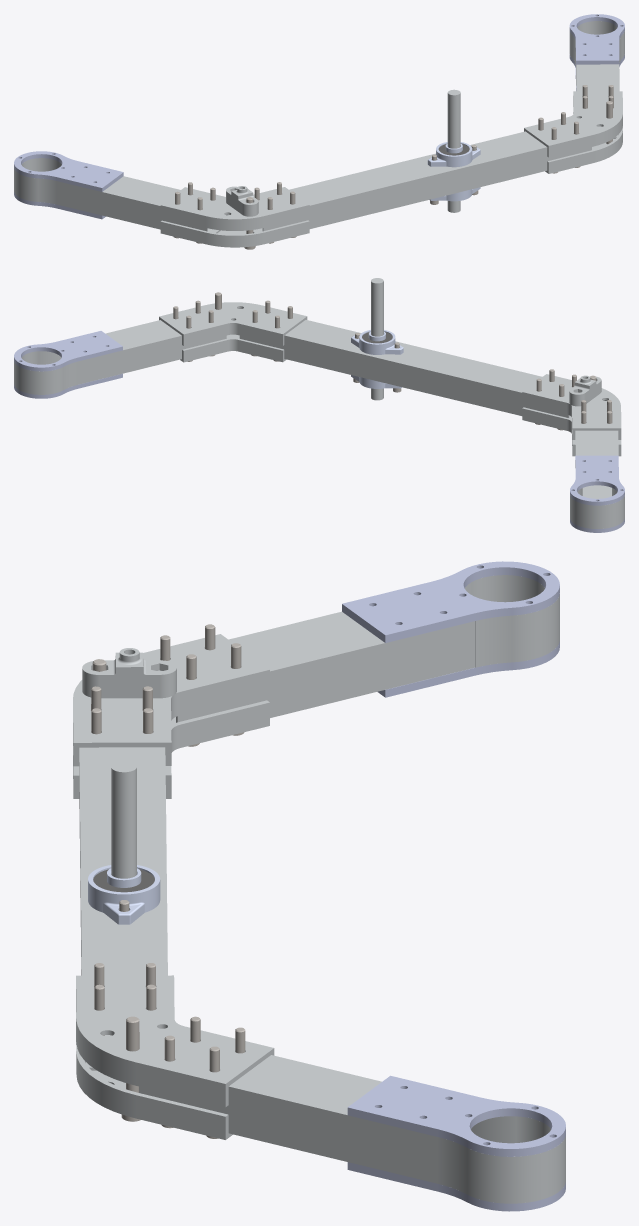
3 renders of one model, top to bottom at view 1: azimuth 30°, elevation 25°; view 2: azimuth 150°, elevation 25°; view 3: azimuth 270°, elevation 25°, orthographic. The views are drawn at different scales.
Visible parts, largest first — view 1: RL; view 2: RL; view 3: RL.
Part boxes in pixels (box(x1,y1,x2,y2)): RL: box(14, 14, 624, 249); RL: box(14, 278, 624, 532); RL: box(73, 561, 565, 1211).
Size of the model in its own units: 0.8076 by 0.15 by 0.2865.
